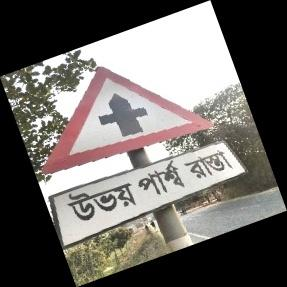Crossroad: (41, 67, 224, 248)
